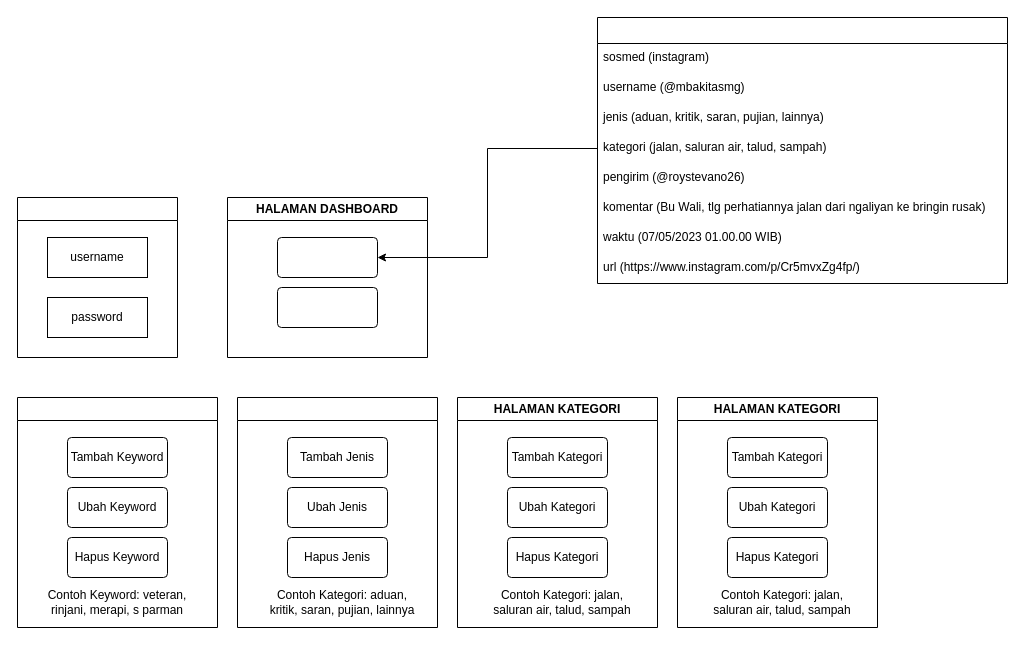
Image size: 1025x645. Some labels were removed from this diagram. Here are the shapes that lost their labels. From the top down, the box of each, then its label:
(596, 16, 1008, 284): DATA KOMENTAR
(16, 196, 178, 358): HALAMAN LOGIN
(276, 236, 378, 278): Tampilkan Data Komentar
(276, 286, 378, 328): Tampilan Grafik
(16, 396, 218, 628): HALAMAN KEYWORD
(236, 396, 438, 628): HALAMAN JENIS
